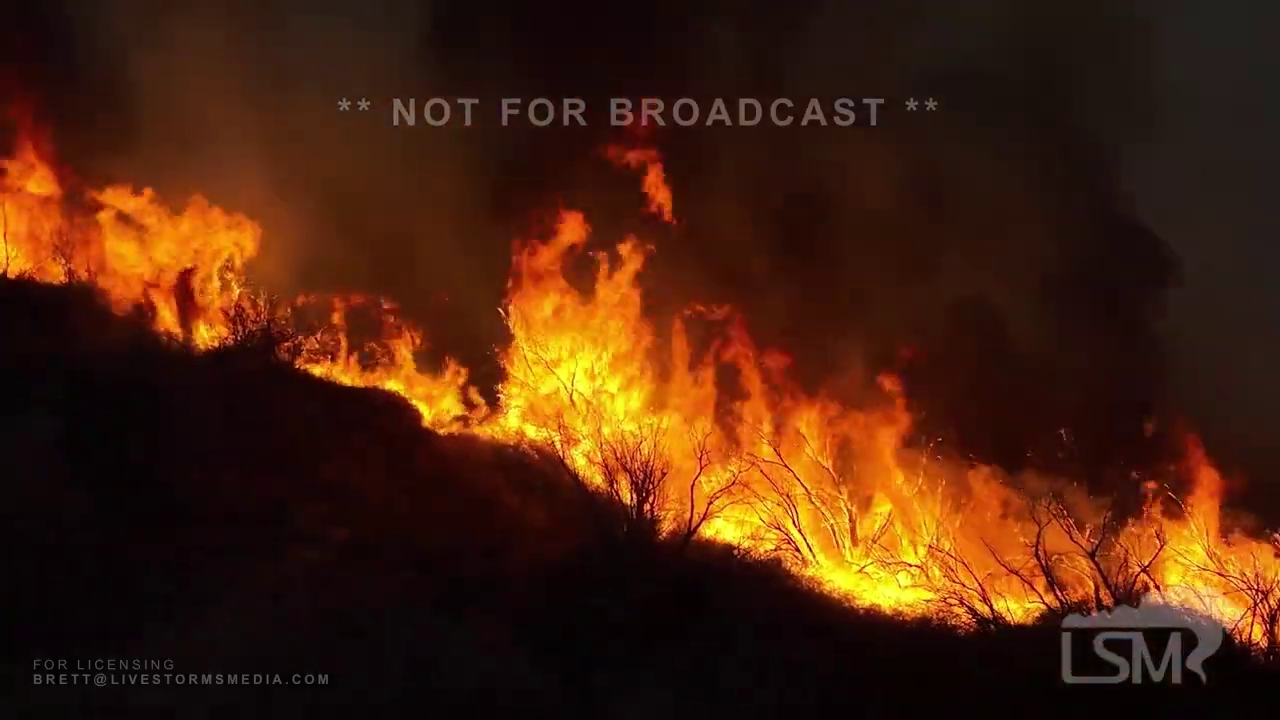forest_fire: (294, 212, 1279, 621), (0, 136, 260, 350)
